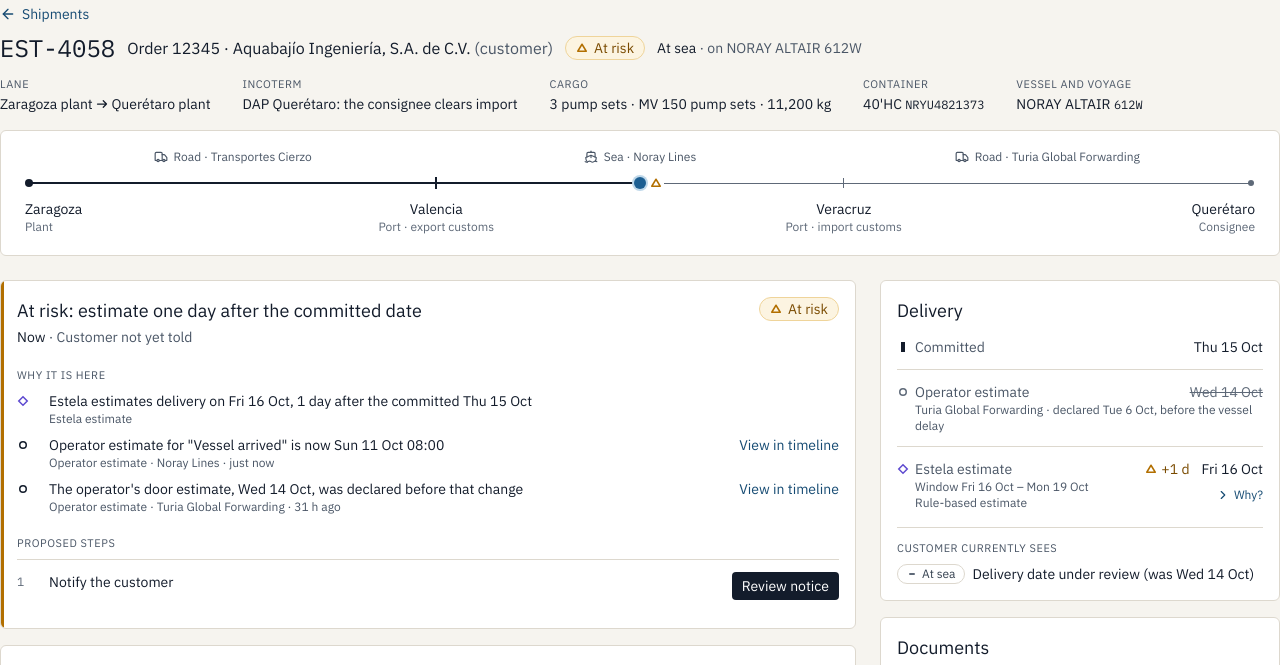
Test: OpsShipmentScreen › sets the three door dates side by side once the vessel is delayed
The image size is (1280, 665).
Expected: the text "Committed" shows "Thu 15 Oct", [1194, 338, 1263, 356]
Expected: the text "Delivery date under review (was Wed 14 Oct)" is shown, [972, 564, 1254, 584]
What coordinates should you click on to do the following:
click the button "Why?"
I would click on:
 (1239, 495)
Its box is [1216, 481, 1263, 509].
(page scrolled)
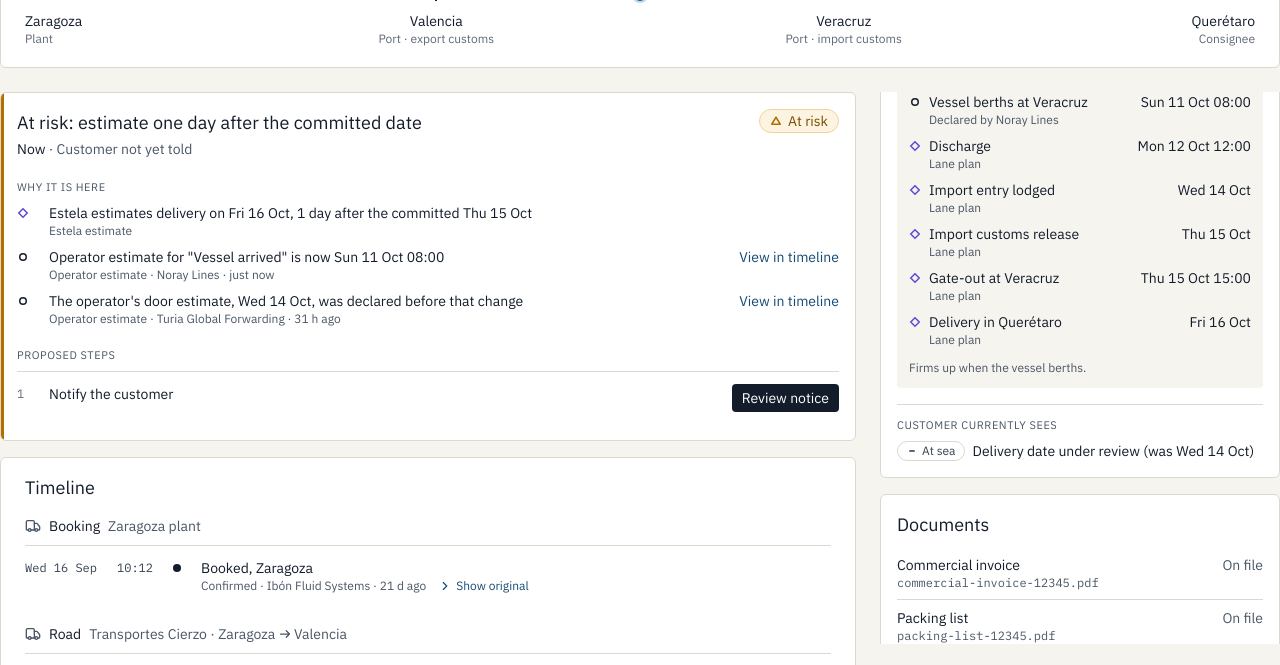
Expected: the text "Vessel berths at Veracruz" is shown, [929, 93, 1088, 111]
Expected: the text "declared by Noray Lines" is shown, [929, 112, 1059, 127]
Expected: the text "Firms up when the vessel berths." is shown, [909, 360, 1086, 375]
